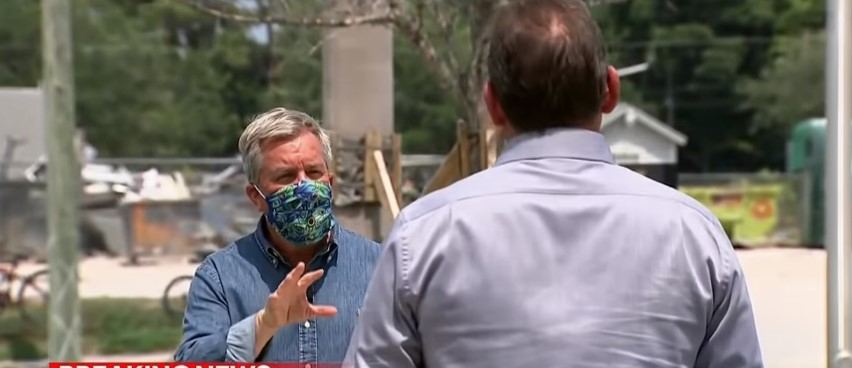face_with_mask: (244, 113, 340, 251)
